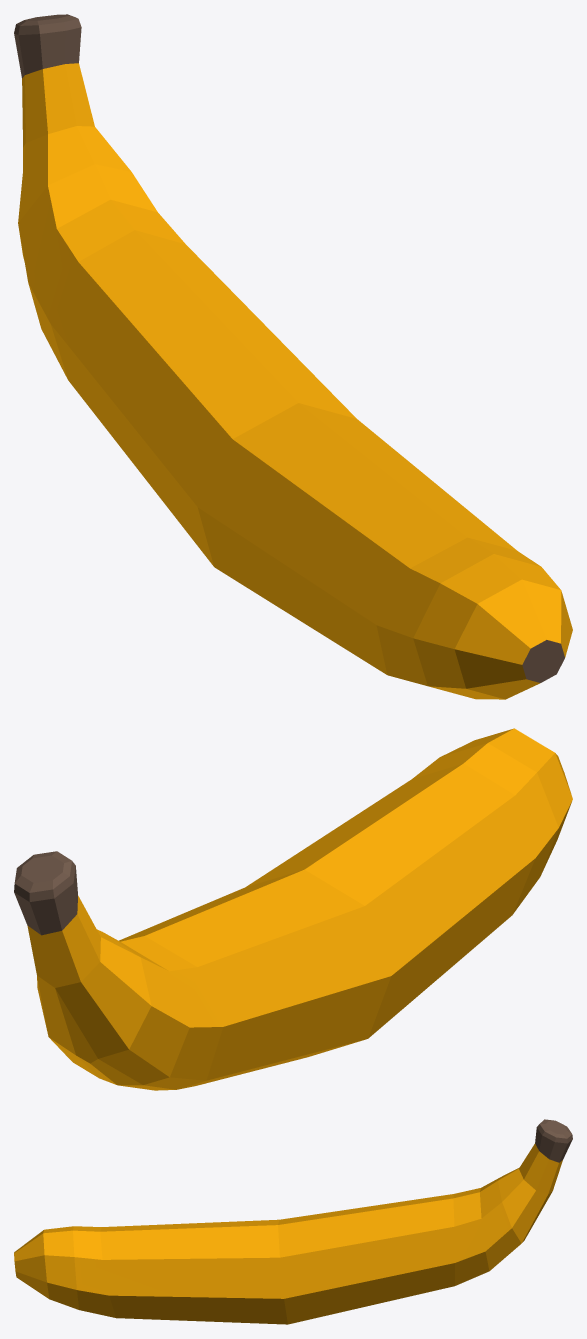
Rendered from Banana.fbx.
3 views of the same model, one above another, from view 1: azimuth 30°, elevation 25°; view 2: azimuth 150°, elevation 25°; view 3: azimuth 270°, elevation 25° (orthographic). The views are drawn at different scales.
Visible parts, largest first — view 1: Banana; view 2: Banana; view 3: Banana.
Part boxes in pixels (bbox=[...]): Banana: bbox=[14, 14, 572, 699]; Banana: bbox=[14, 728, 572, 1090]; Banana: bbox=[14, 1119, 572, 1324].
Size of the model in its own units: 3.78 by 7.77 by 19.45.
